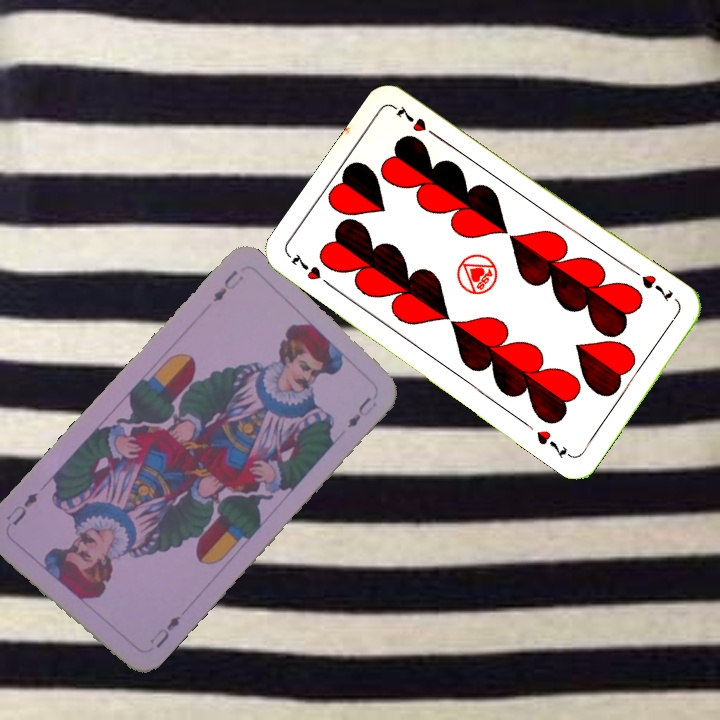EU: (145, 611, 184, 651), (208, 265, 246, 305)
H7: (285, 249, 337, 292), (637, 270, 676, 305)
